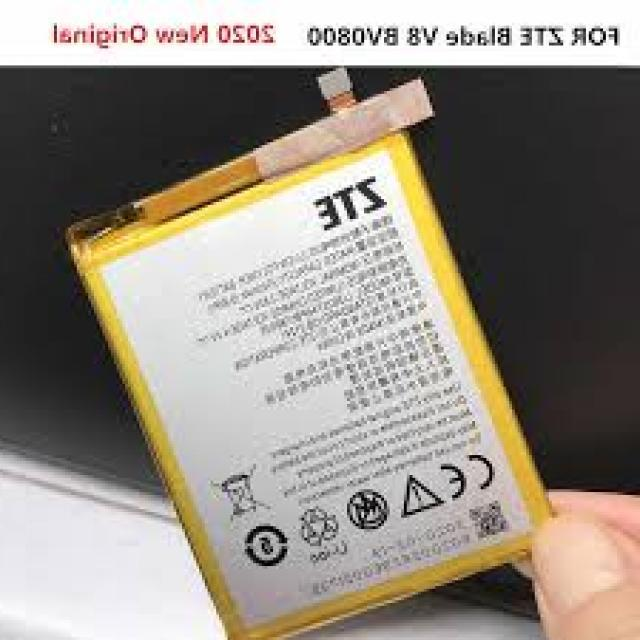battery: (70, 72, 558, 640)
